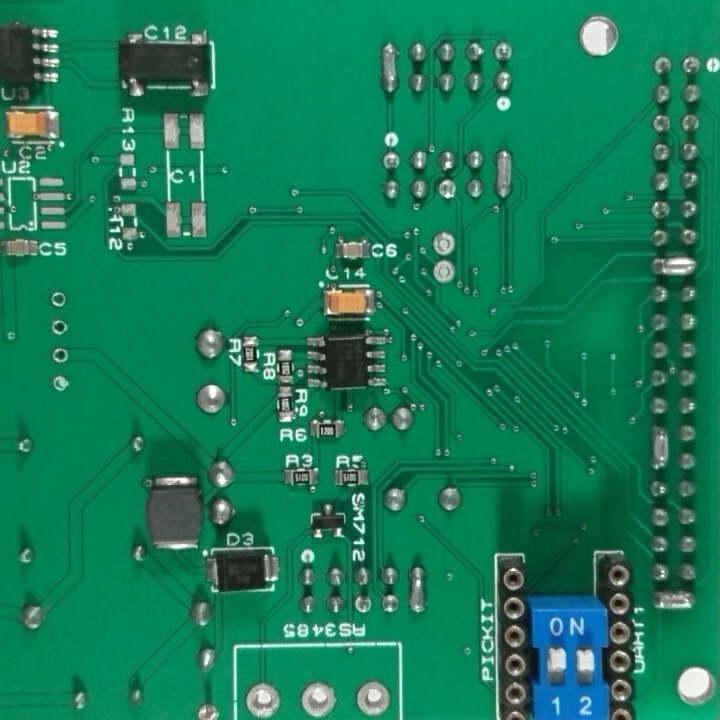F: (296, 678, 346, 720), (240, 679, 285, 720), (353, 676, 393, 720), (425, 231, 462, 261), (428, 259, 461, 290), (647, 195, 673, 224), (492, 38, 516, 66), (193, 698, 222, 720), (436, 176, 459, 203), (679, 51, 702, 78), (379, 148, 402, 172), (679, 112, 704, 134), (47, 288, 70, 310), (49, 318, 71, 340), (50, 344, 70, 367), (52, 373, 72, 395), (353, 594, 373, 616)
P: (645, 254, 707, 280), (404, 562, 431, 620), (648, 586, 699, 615), (377, 35, 400, 98), (492, 142, 516, 202), (649, 420, 672, 476)
